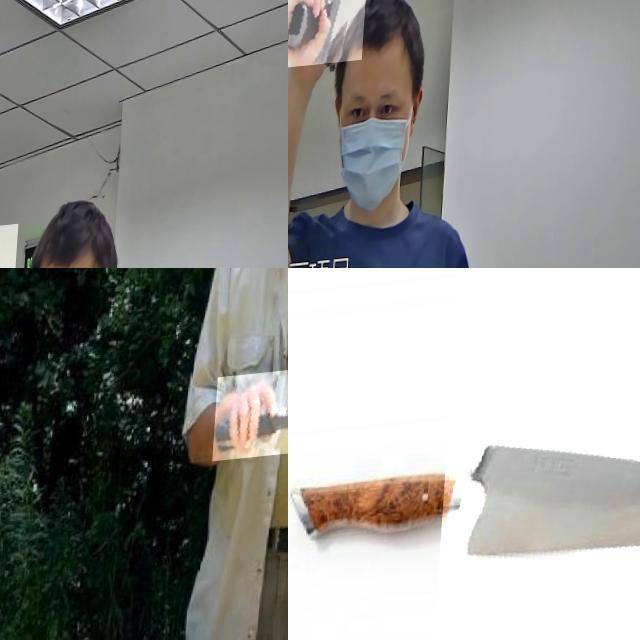-: (433, 268, 640, 640), (217, 373, 288, 467)
gun-knife-thesis - v11 Yolov5 augmented: (288, 0, 376, 94)
